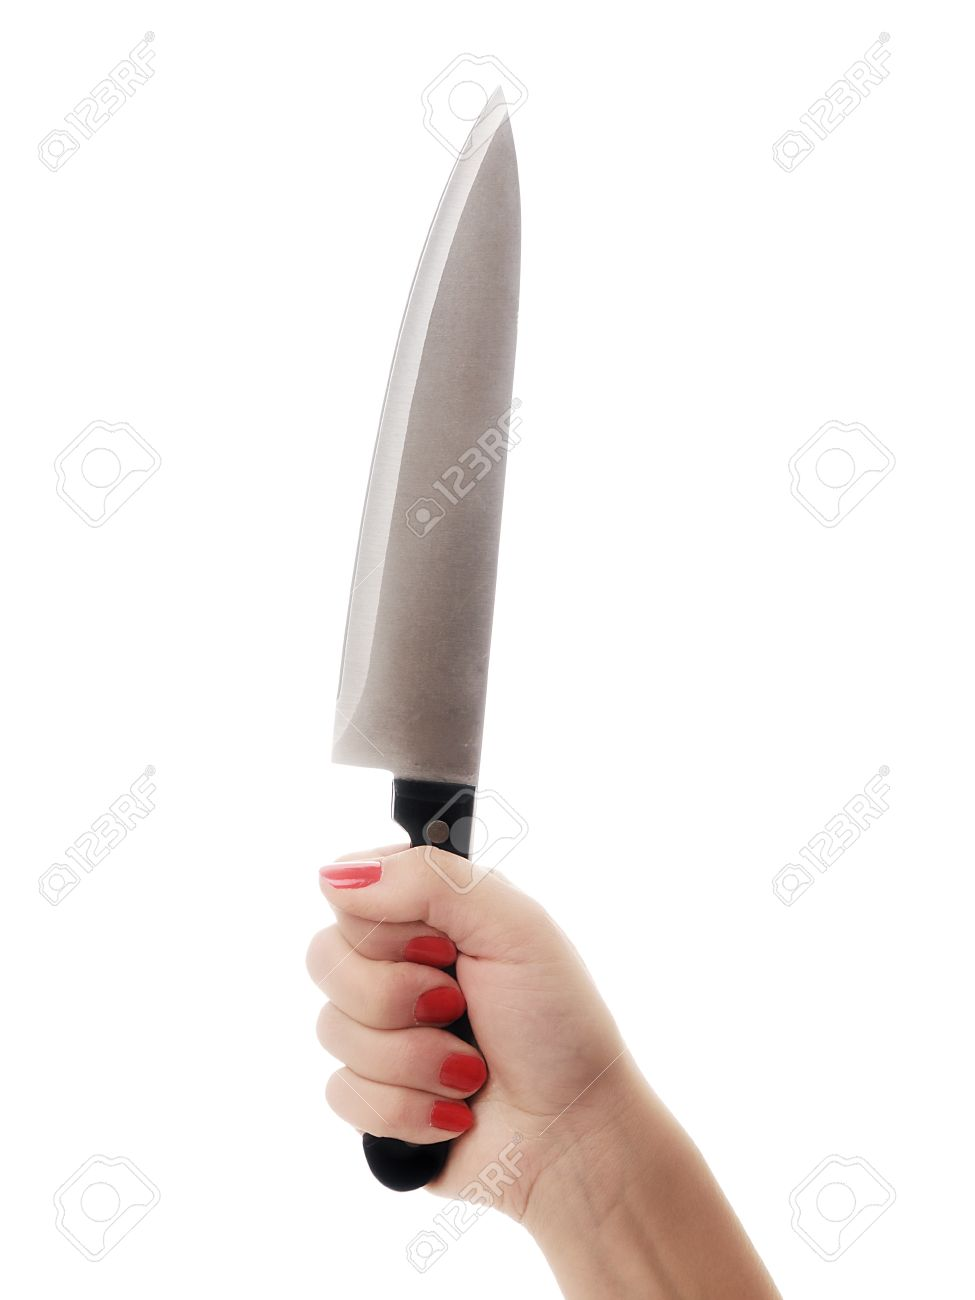knife: (277, 50, 533, 1135)
